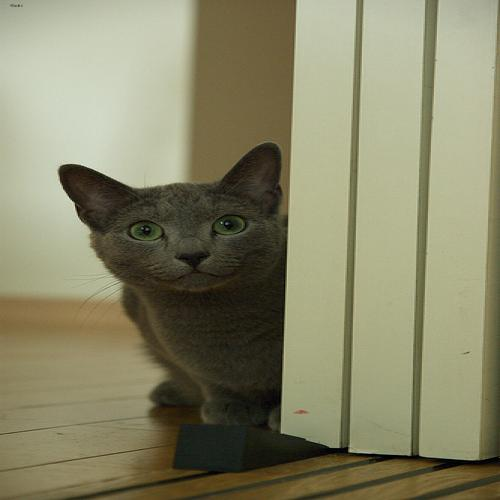rblue: (52, 140, 300, 301)
